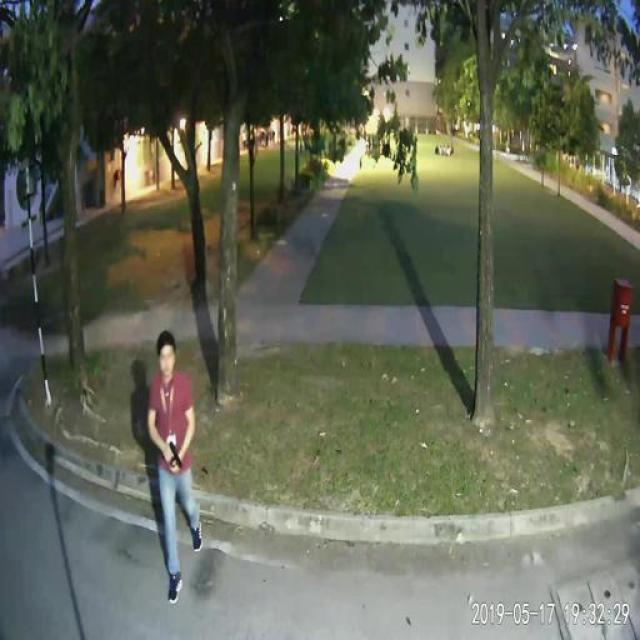Gun: (165, 438, 196, 481)
